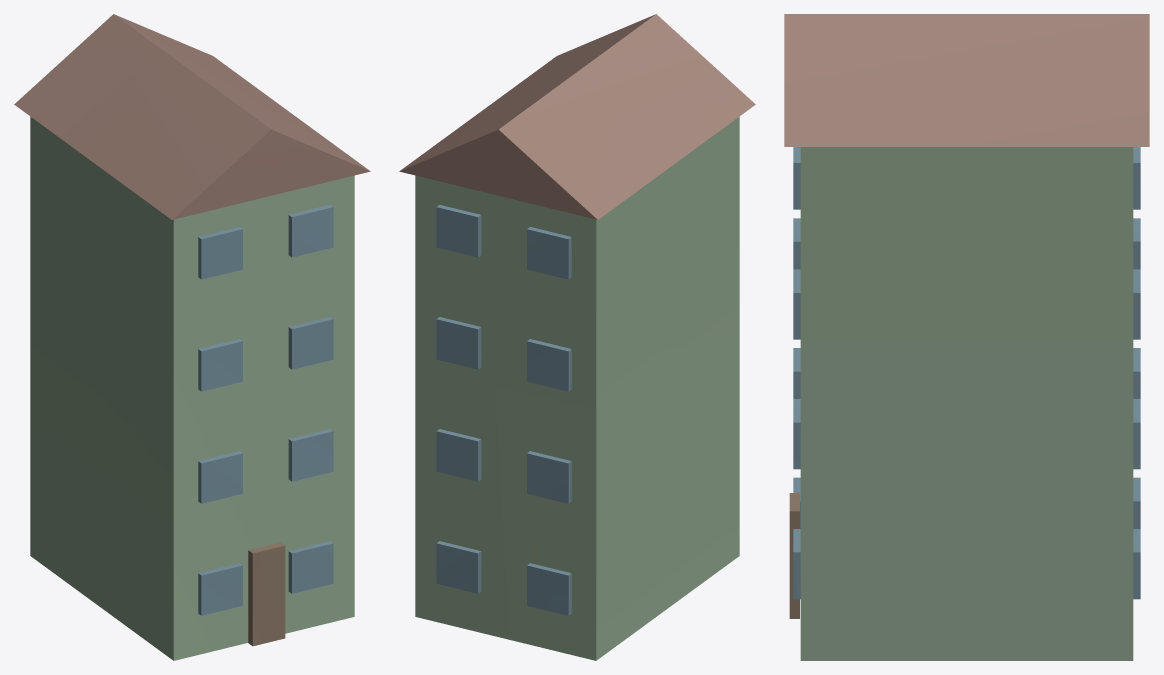
The model's file is townhouse-04.glb.
The picture shows the model from 3 angles, left to right: view 1: azimuth 30°, elevation 25°; view 2: azimuth 150°, elevation 25°; view 3: azimuth 270°, elevation 25°; orthographic projection. The views are drawn at different scales.
Parts seen in each view (by area): view 1: world; view 2: world; view 3: world.
Part boxes in pixels (bbox=[...]): world: bbox=[14, 14, 370, 660]; world: bbox=[399, 14, 755, 660]; world: bbox=[784, 14, 1149, 660].
Bounding box in the file's own units: 0.8964 × 2.22 × 1.23.
